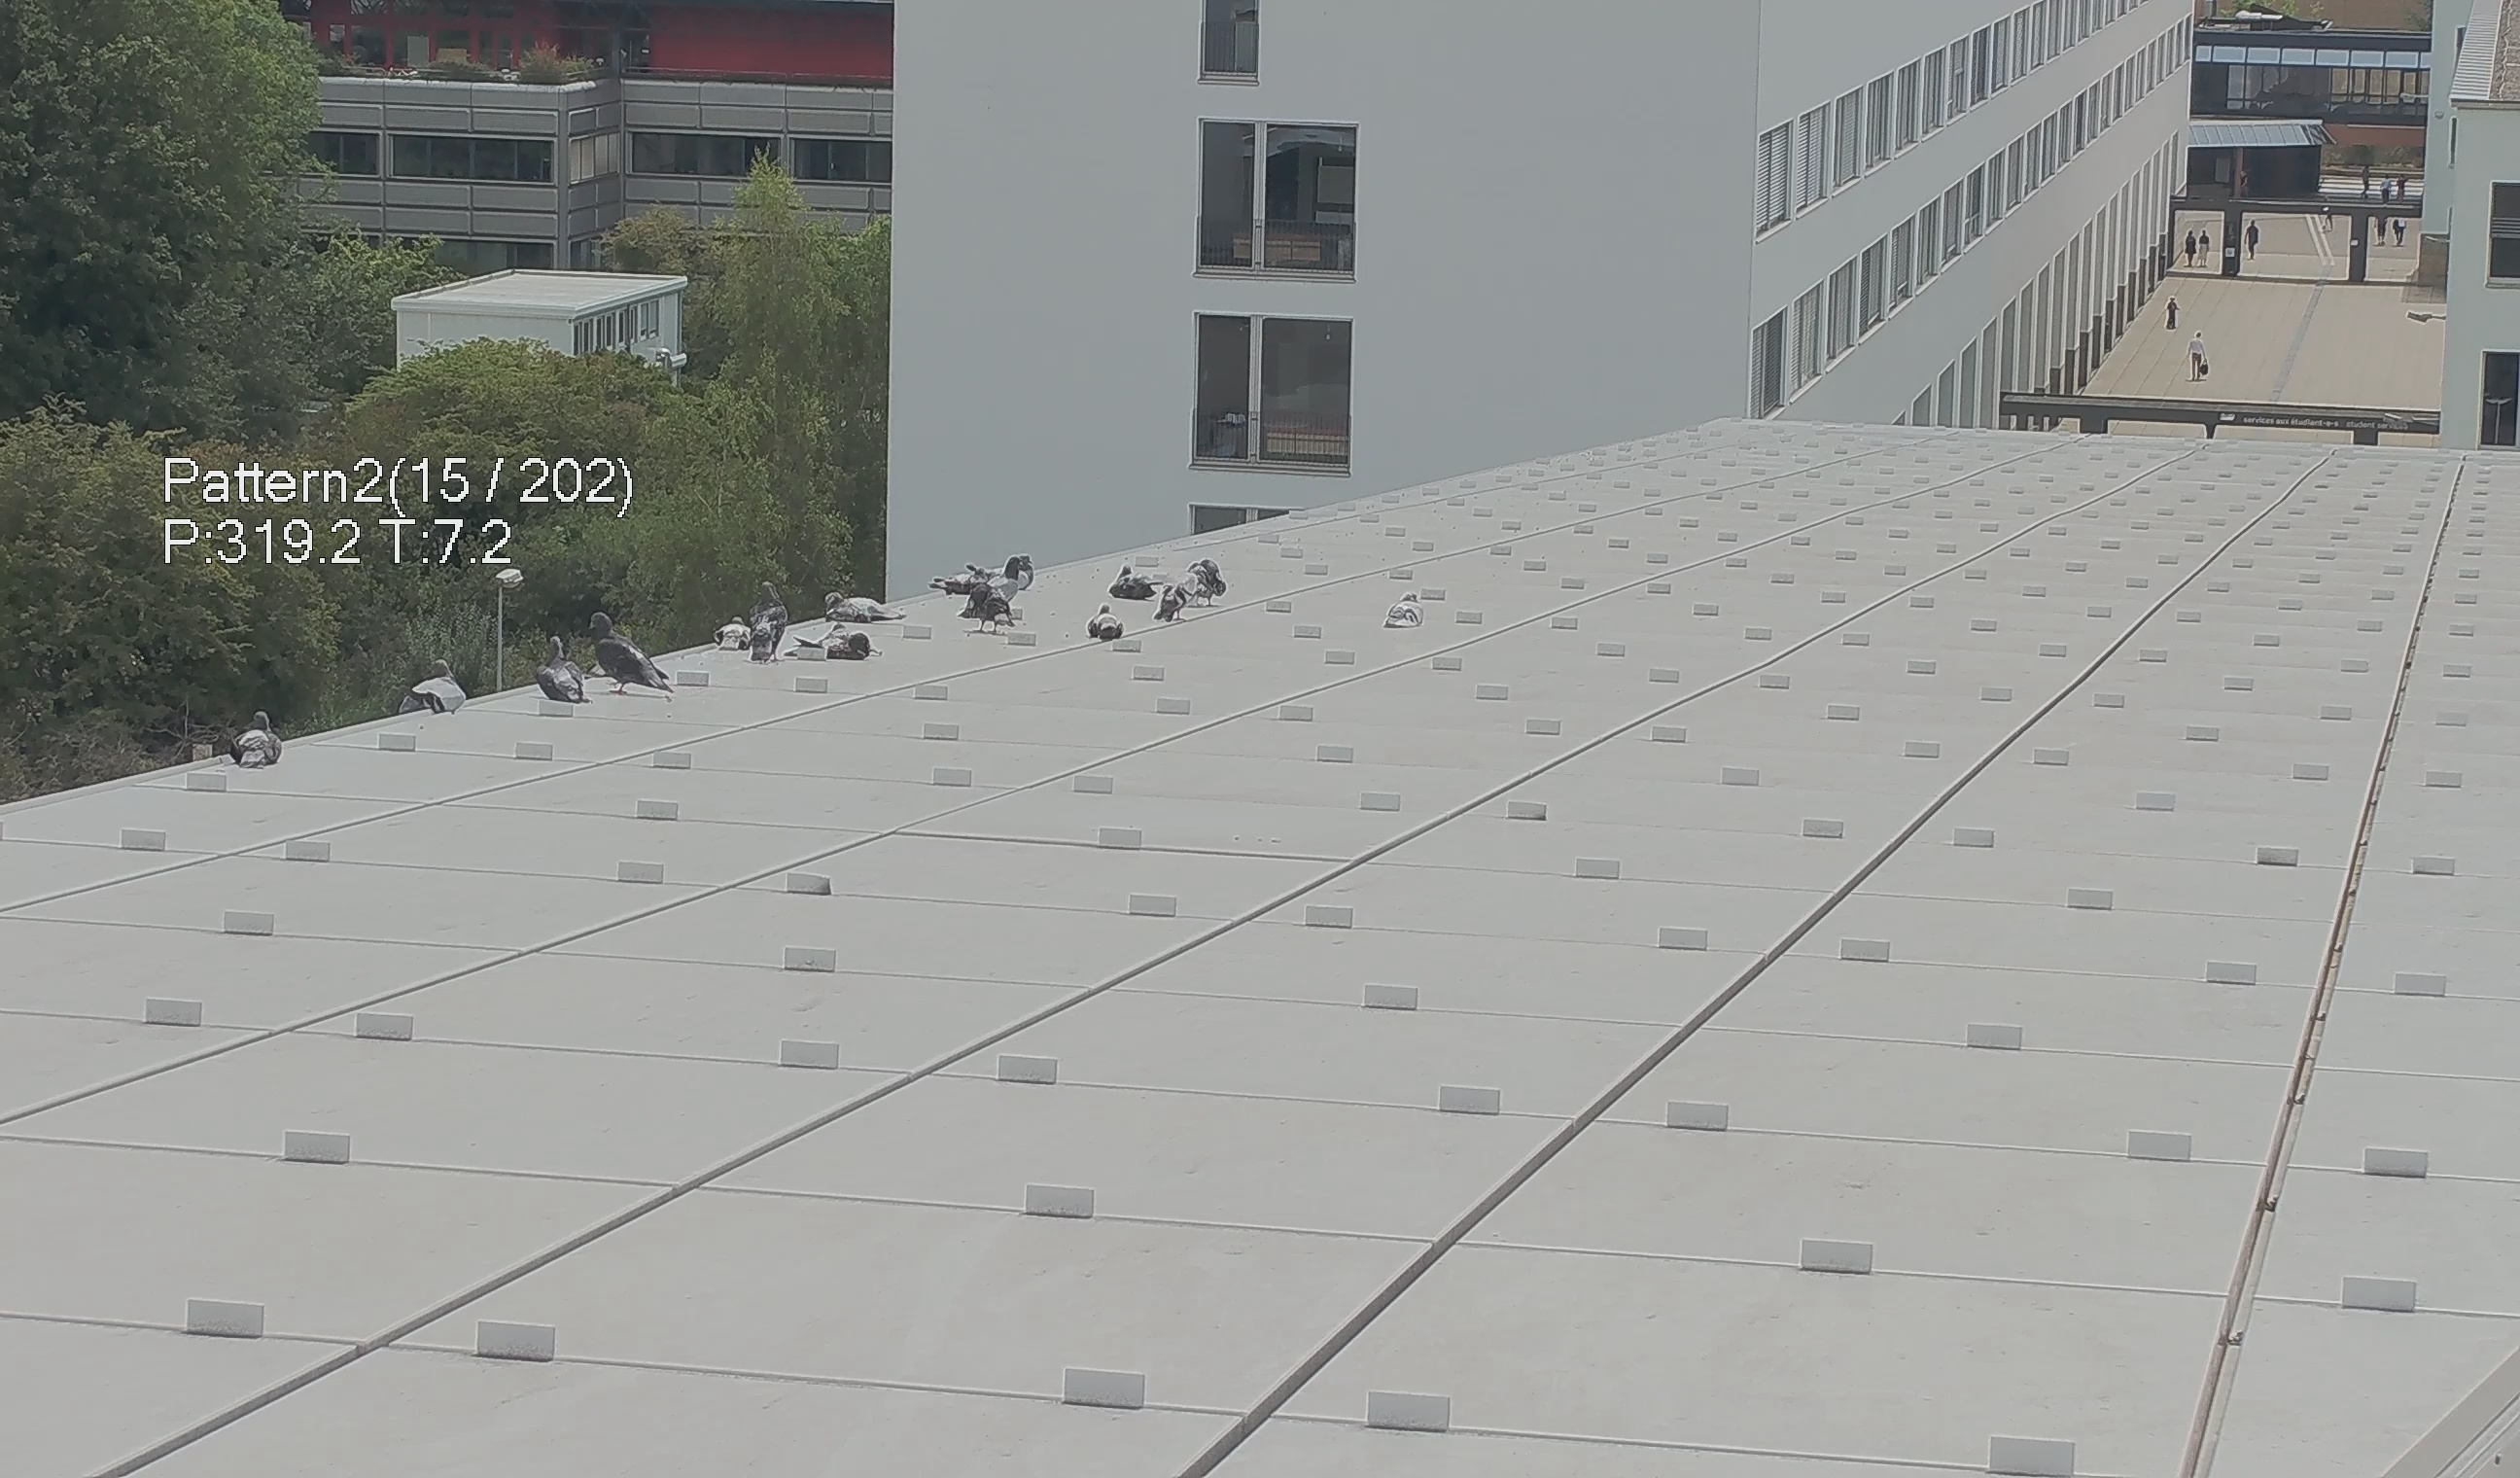Pigeon: (582, 602, 679, 706), (392, 658, 473, 721), (223, 707, 281, 779), (790, 626, 881, 670), (540, 639, 589, 714), (751, 577, 788, 667), (967, 584, 1015, 642), (819, 591, 904, 621), (1152, 570, 1199, 621), (1380, 593, 1430, 640), (1106, 558, 1157, 600), (703, 612, 749, 658), (1192, 558, 1229, 607), (1078, 602, 1124, 640), (929, 568, 981, 602), (988, 554, 1022, 598), (1016, 551, 1036, 588)
